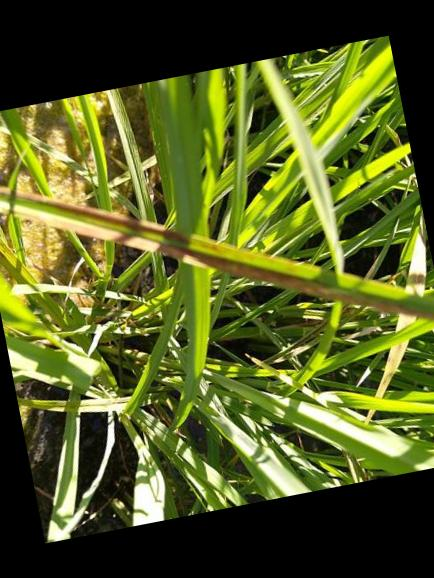Leaf Blight: (0, 185, 434, 320), (378, 340, 408, 397), (405, 225, 427, 295), (394, 313, 416, 331)
